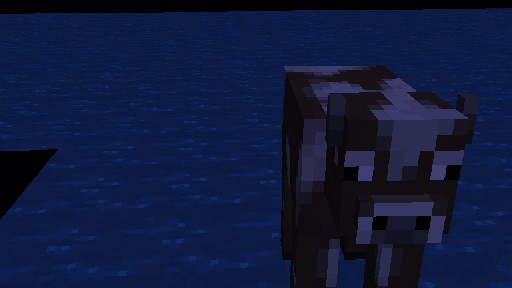cow: (279, 64, 480, 288)
